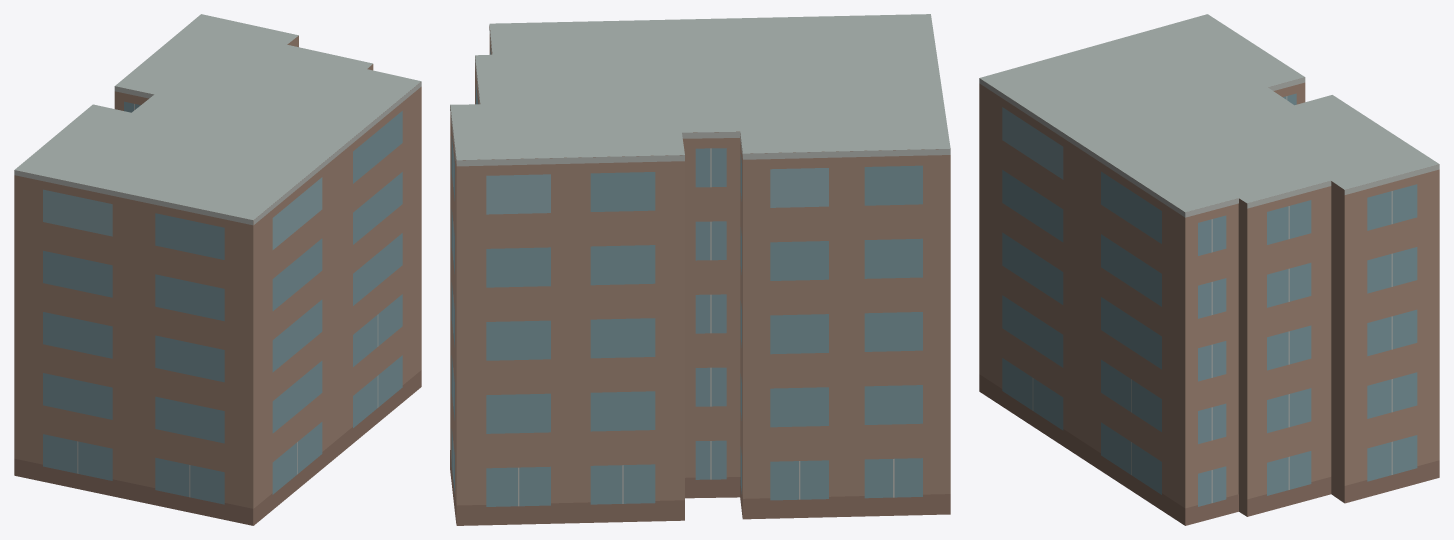
File: survey-upis-32683059.glb
3 renders of one model, left to right at view 1: azimuth 30°, elevation 25°; view 2: azimuth 150°, elevation 25°; view 3: azimuth 270°, elevation 25°, orthographic. The views are drawn at different scales.
Visible parts, largest first — view 1: survey-upis-32683059.tmp; view 2: survey-upis-32683059.tmp; view 3: survey-upis-32683059.tmp.
Part boxes in pixels (<box>): survey-upis-32683059.tmp: <box>14,14,421,525</box>; survey-upis-32683059.tmp: <box>450,14,950,525</box>; survey-upis-32683059.tmp: <box>979,14,1439,525</box>.
Bounding box in the file's own units: 19.62 × 14.45 × 19.24.
